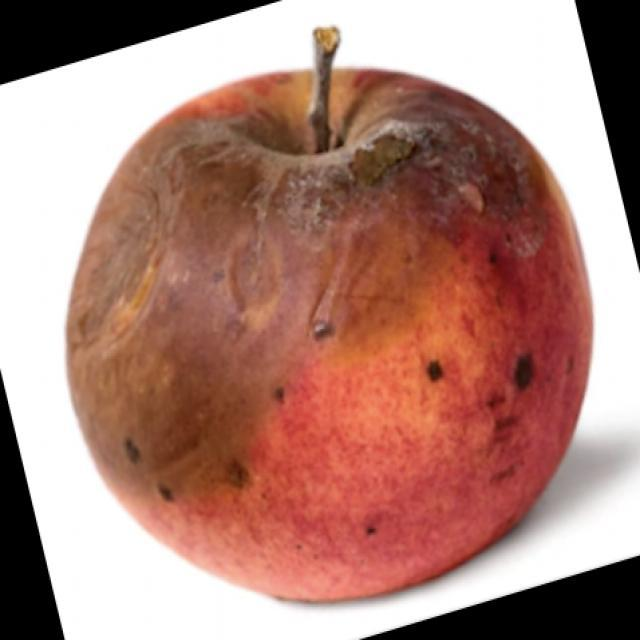Rotten: (78, 67, 595, 590)
